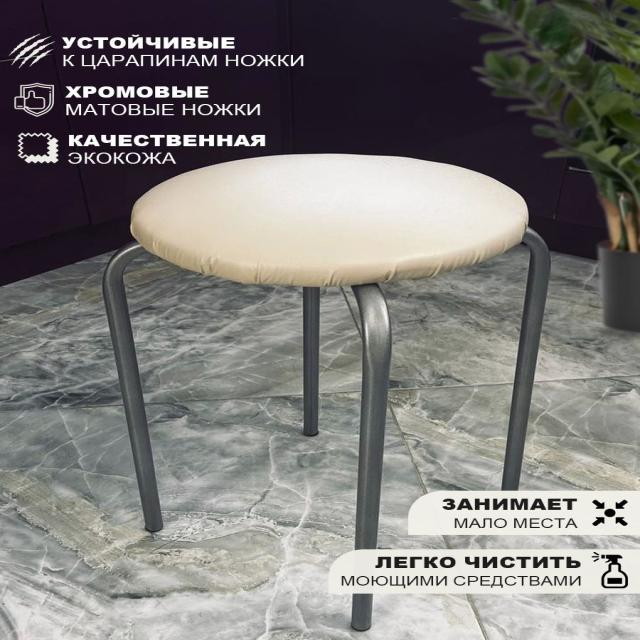chair: (96, 150, 556, 634)
